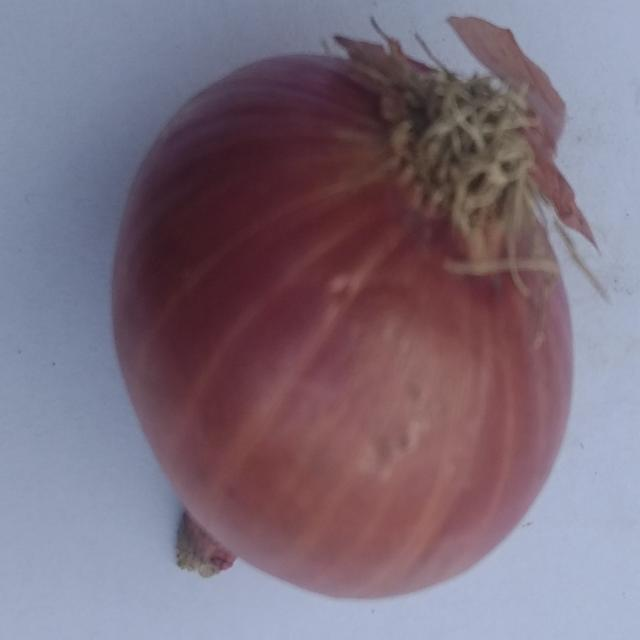onion: (108, 14, 608, 604)
